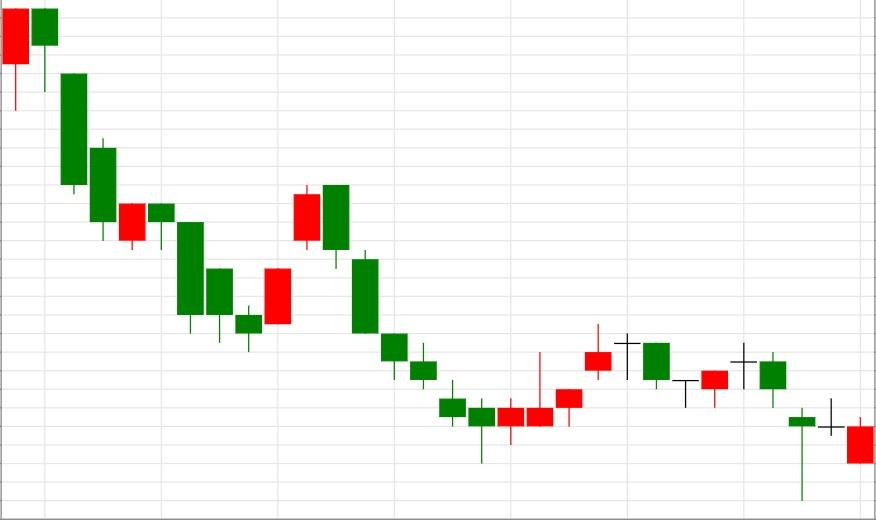bearish_engulfing_fall: (235, 185, 351, 352)
evening_star_fall: (468, 323, 671, 463)
three_black_crows_fall: (235, 185, 409, 381)
